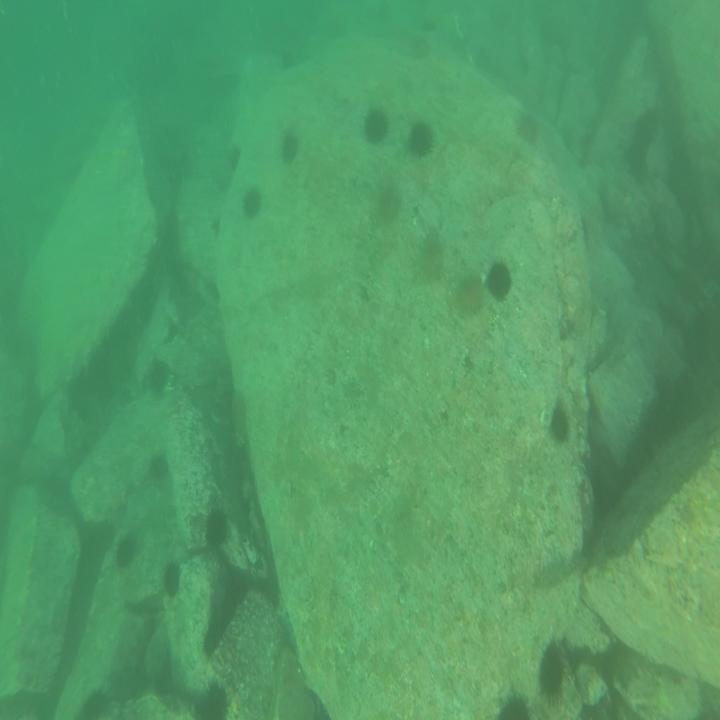echinus: (540, 641, 570, 704), (417, 228, 446, 284), (459, 267, 484, 320), (372, 182, 401, 226), (197, 676, 228, 717), (204, 506, 232, 547), (489, 256, 512, 303), (148, 358, 170, 404), (550, 400, 572, 445), (408, 121, 434, 159), (201, 624, 228, 659), (77, 693, 112, 720), (112, 533, 136, 567), (364, 108, 389, 140), (516, 109, 540, 142), (500, 697, 534, 720), (243, 185, 263, 224), (146, 449, 167, 484), (408, 32, 428, 65), (164, 562, 180, 594), (284, 129, 298, 164)
